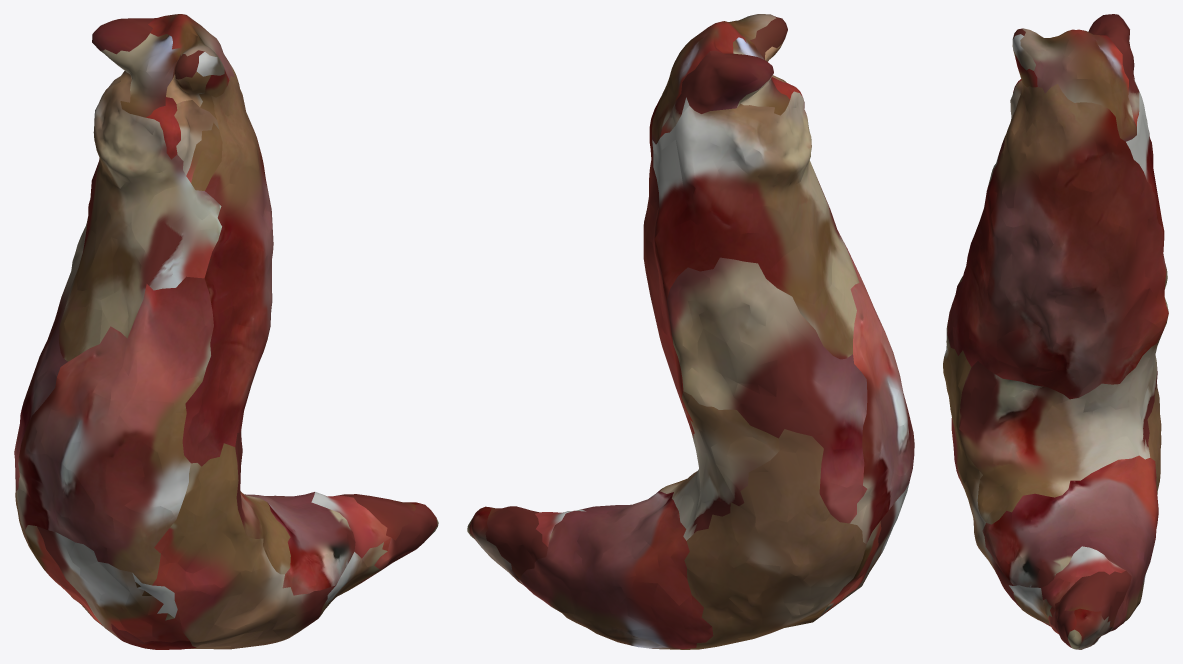
The model's file is yamEsacpe_YamWalk_0013_yamWalk04.fbx.
3 views of the same model, side by side, from view 1: azimuth 30°, elevation 25°; view 2: azimuth 150°, elevation 25°; view 3: azimuth 270°, elevation 25° (orthographic). The views are drawn at different scales.
Parts seen in each view (by area): view 1: YamWalk_0013_yamWalk04; view 2: YamWalk_0013_yamWalk04; view 3: YamWalk_0013_yamWalk04.
Boxes of the visible parts, <box> form: YamWalk_0013_yamWalk04: <box>14,14,438,649</box>; YamWalk_0013_yamWalk04: <box>467,14,914,649</box>; YamWalk_0013_yamWalk04: <box>943,14,1168,649</box>.
Size of the model in its own units: 0.0618 by 0.0903 by 0.0333.
